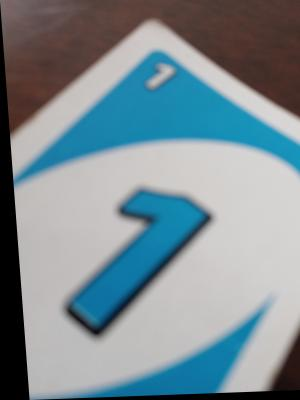num_1: (42, 174, 221, 347), (141, 53, 185, 103)
